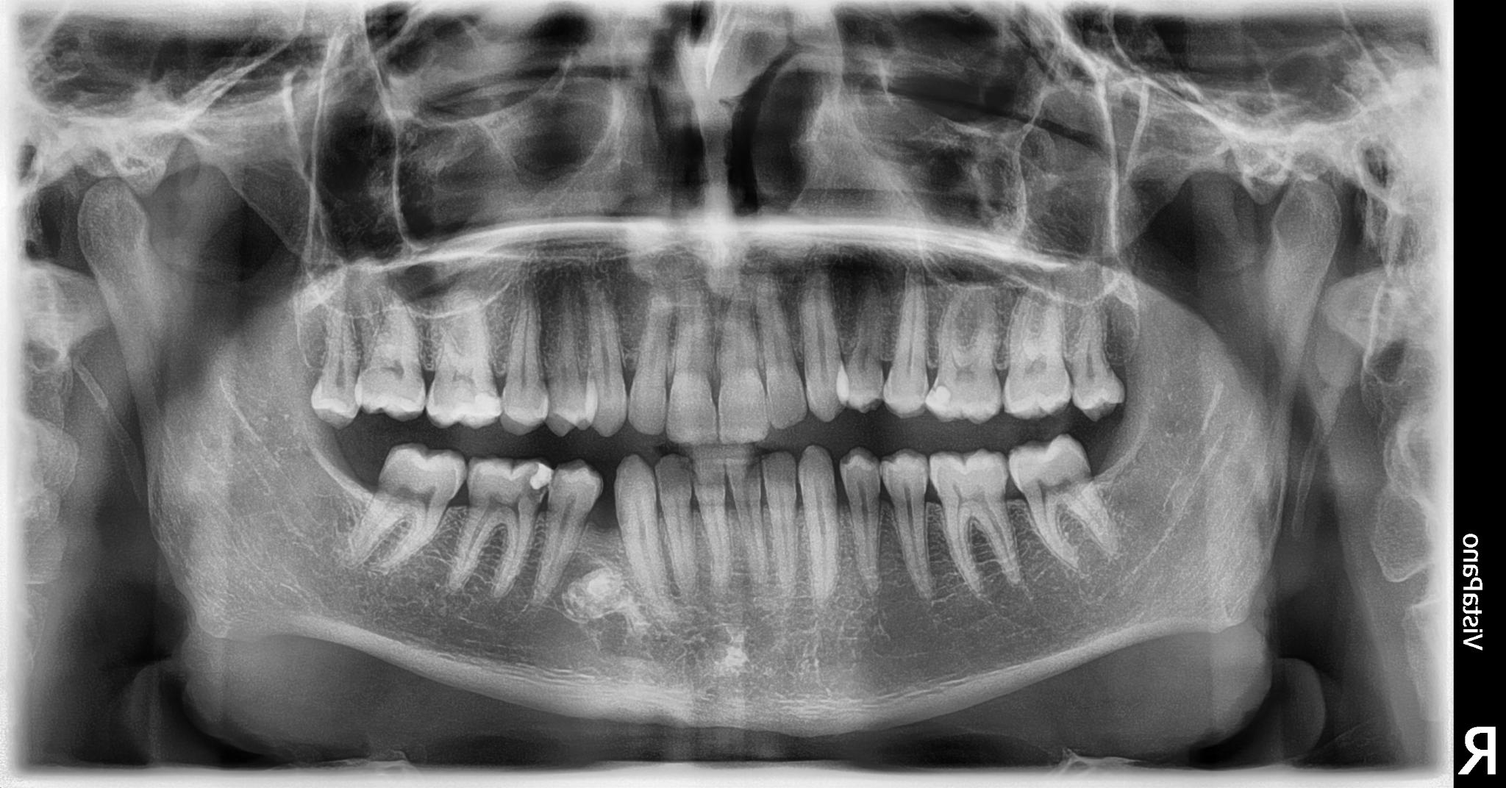Premolars: (476, 227, 1379, 664), (500, 212, 1506, 519), (262, 272, 821, 753)
